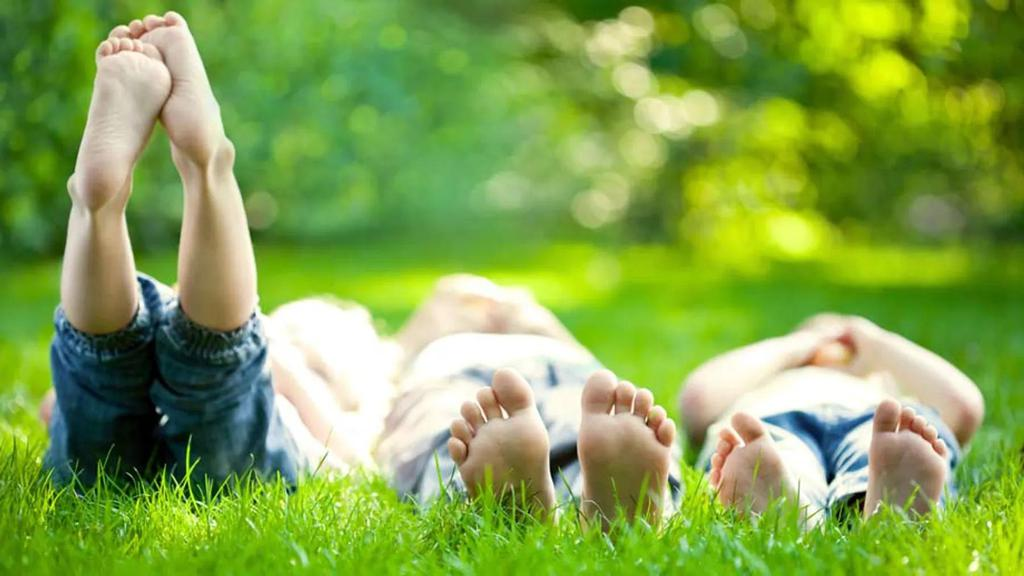child: (31, 18, 357, 495), (661, 273, 1014, 549), (396, 276, 720, 546)
